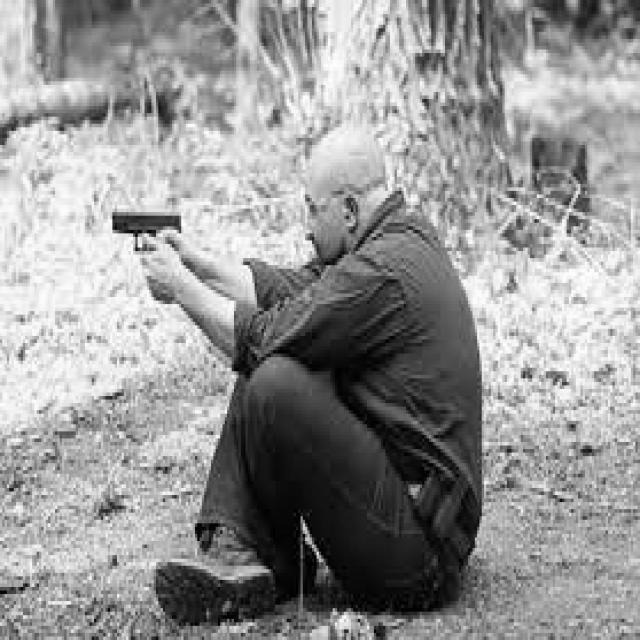gun: (111, 210, 182, 253)
